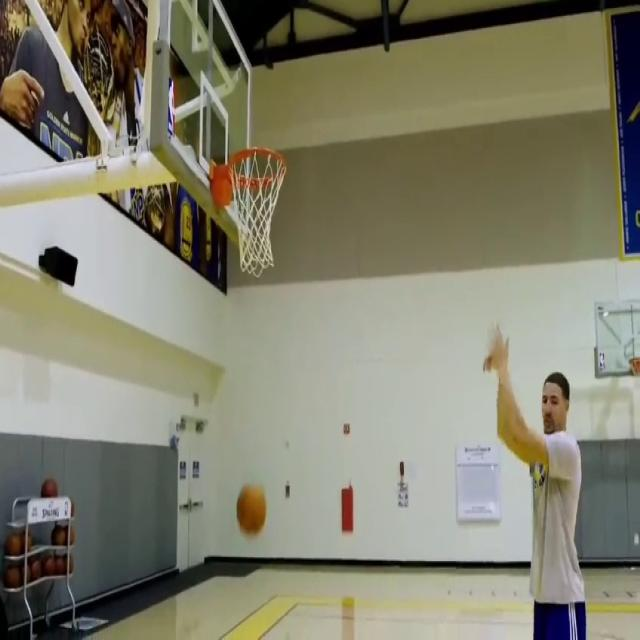ball: (238, 483, 268, 537), (4, 565, 24, 589), (4, 533, 22, 557), (41, 480, 59, 500), (51, 526, 67, 546), (44, 556, 58, 577), (28, 560, 42, 581)
